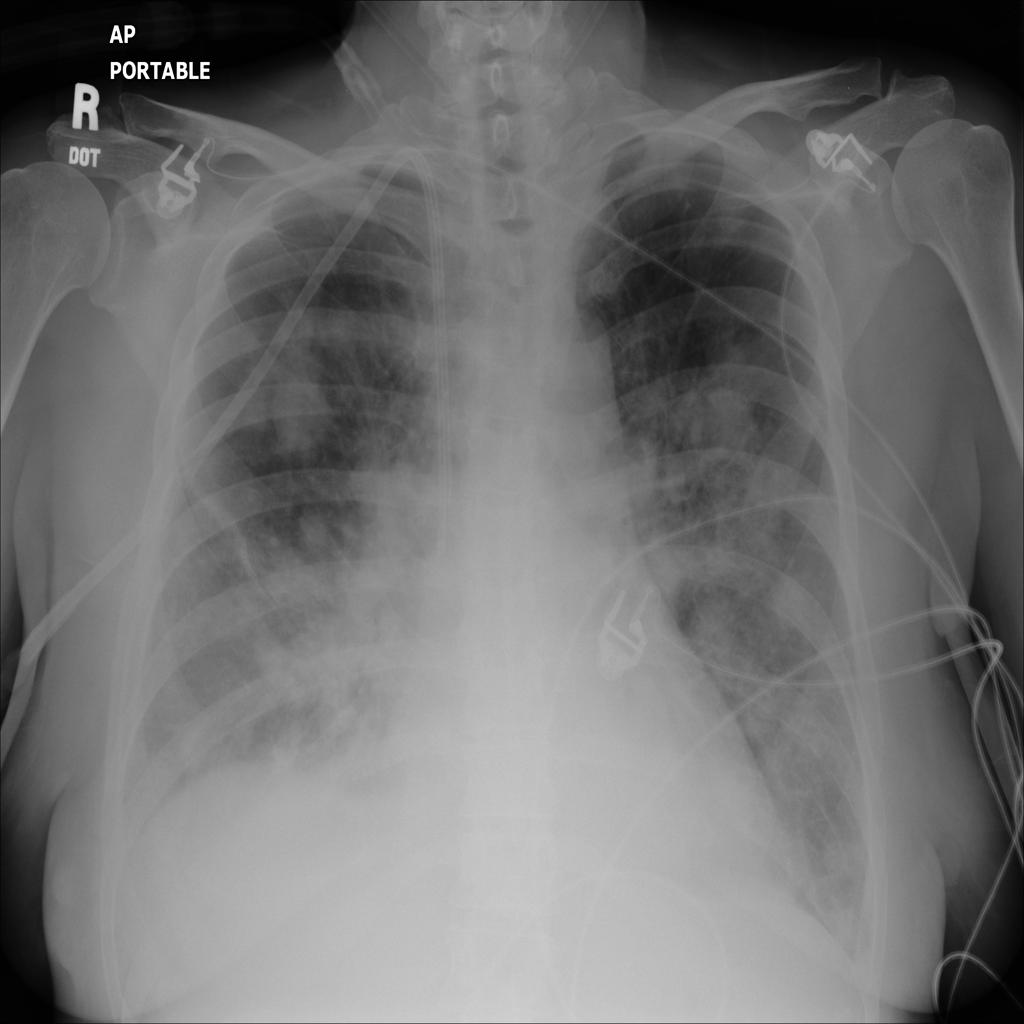nodule: (238, 591, 381, 744), (665, 366, 773, 489), (254, 353, 344, 476), (811, 818, 876, 897), (284, 493, 350, 566)
